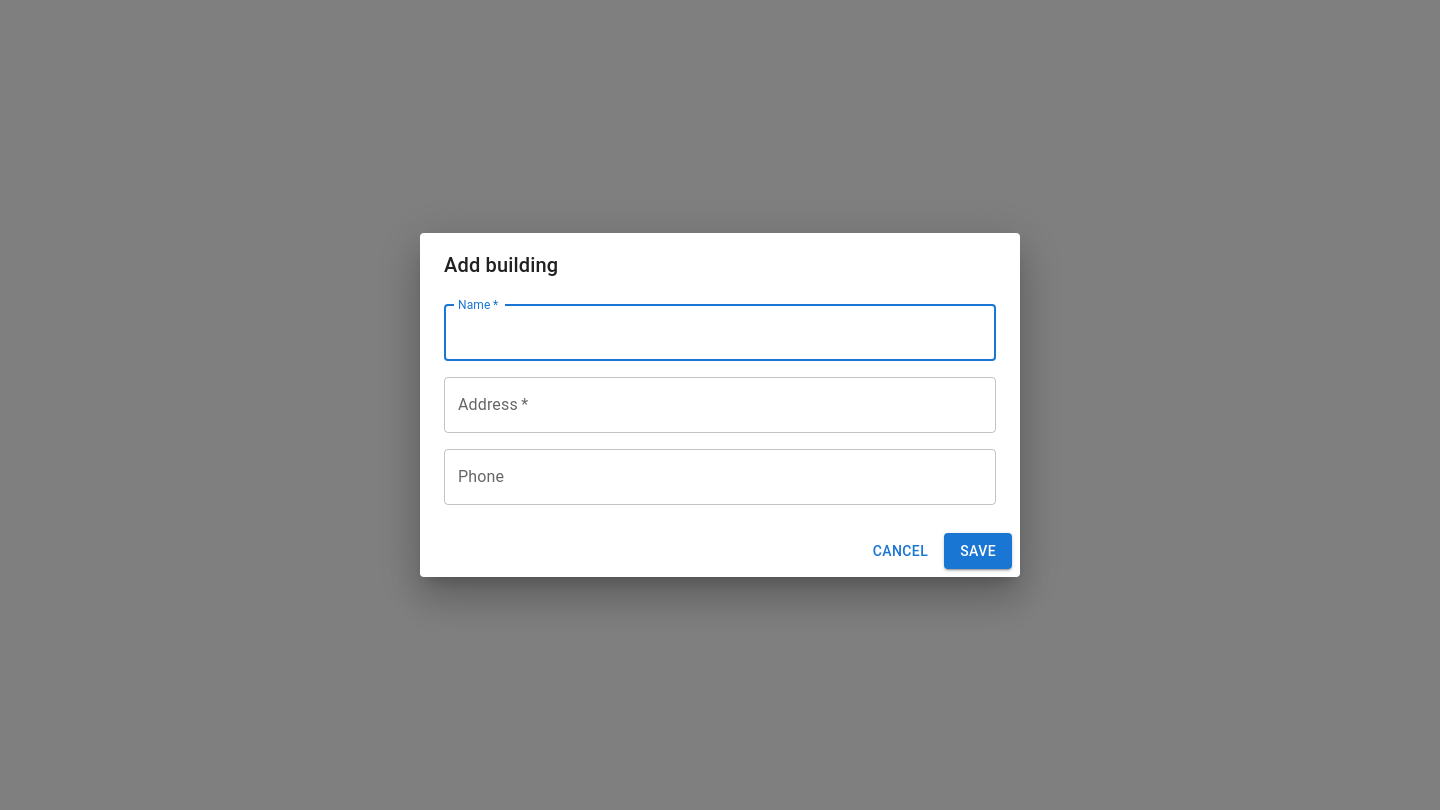
Test: FormDialog › shows other errors at the top of the form
Type "Annex" into the field labelled "Name *" at (720, 333), box 444,305 -> 996,361
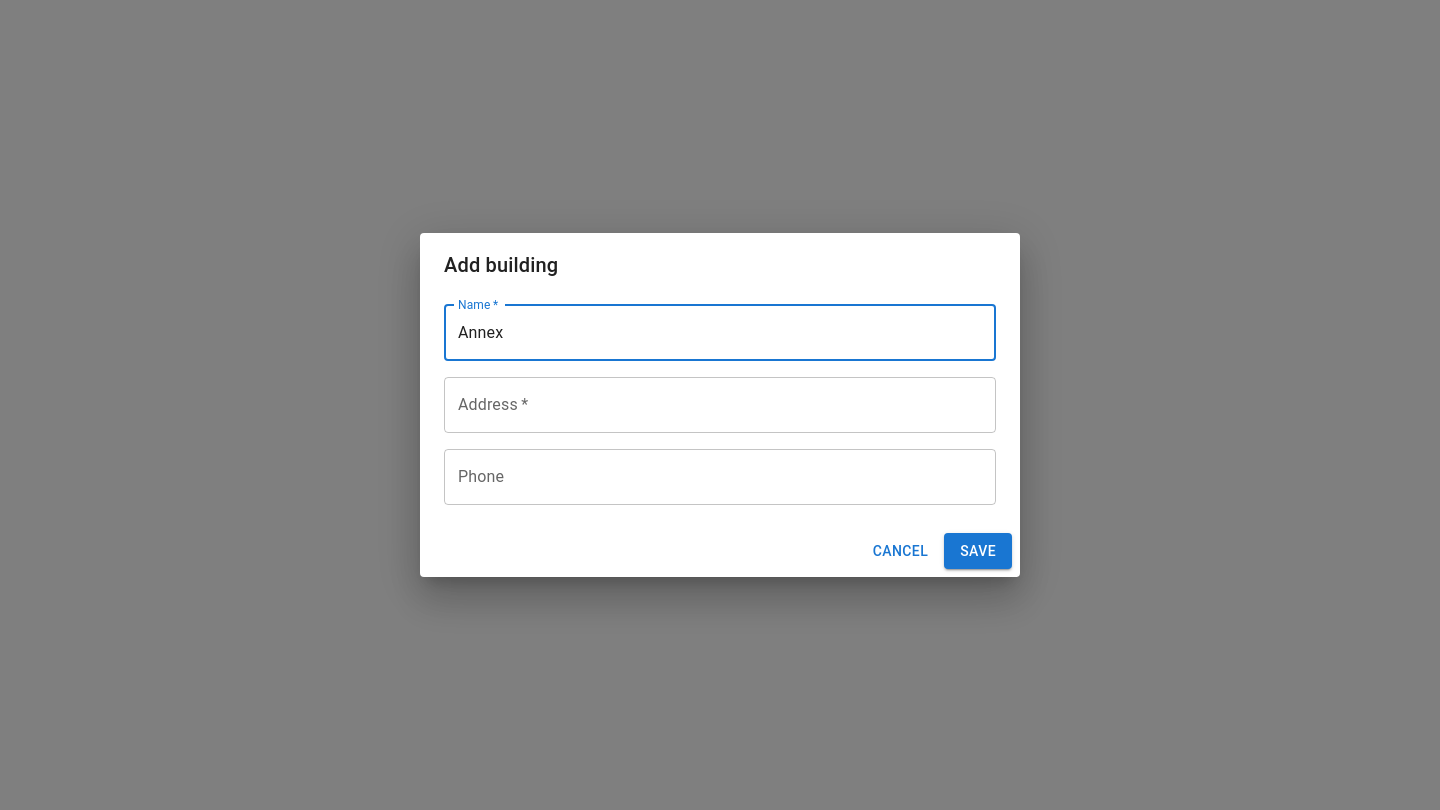
Type "x" into the field labelled "Address *" at (720, 405), box 444,377 -> 996,433
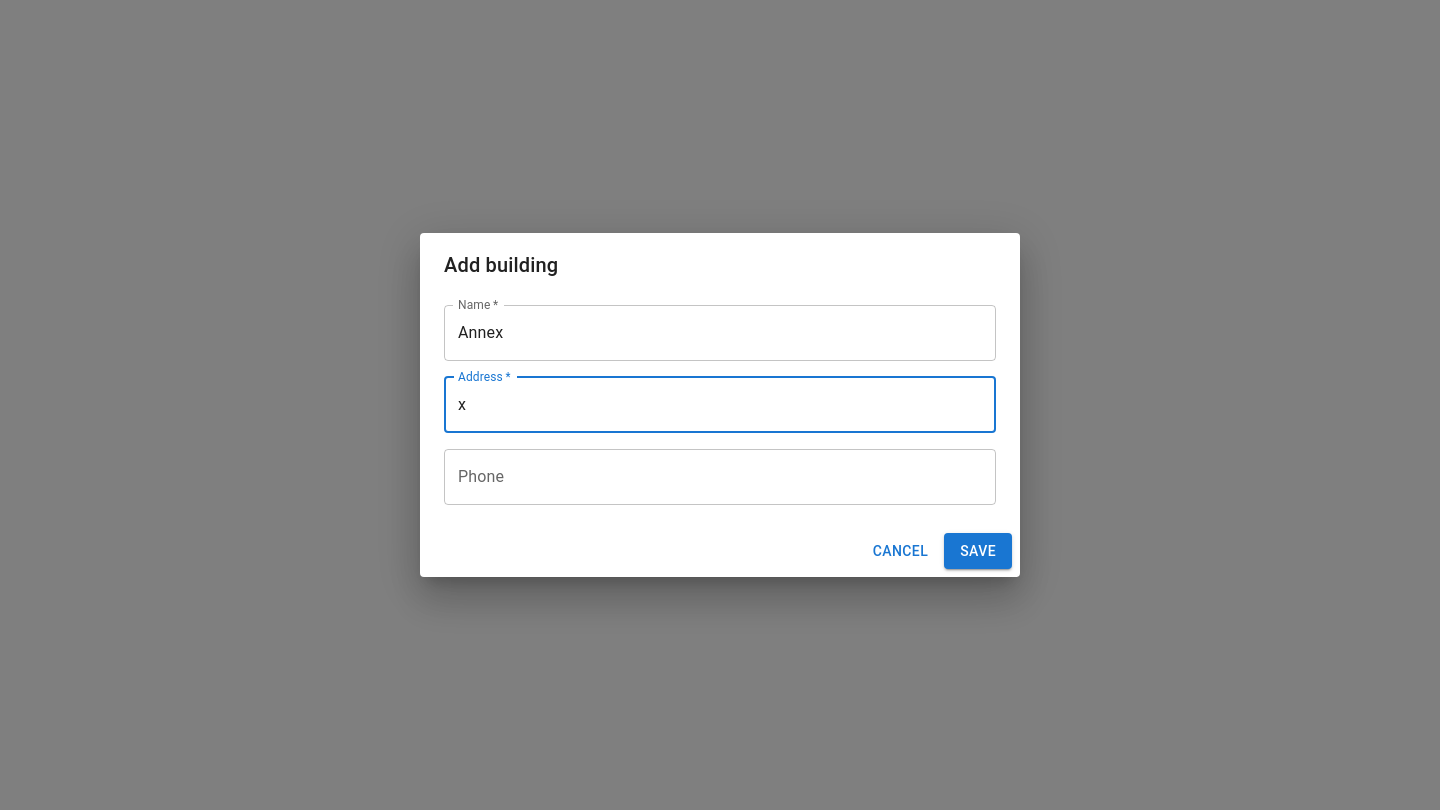
Click the button "Save" at (978, 551), box 944,533 -> 1012,569
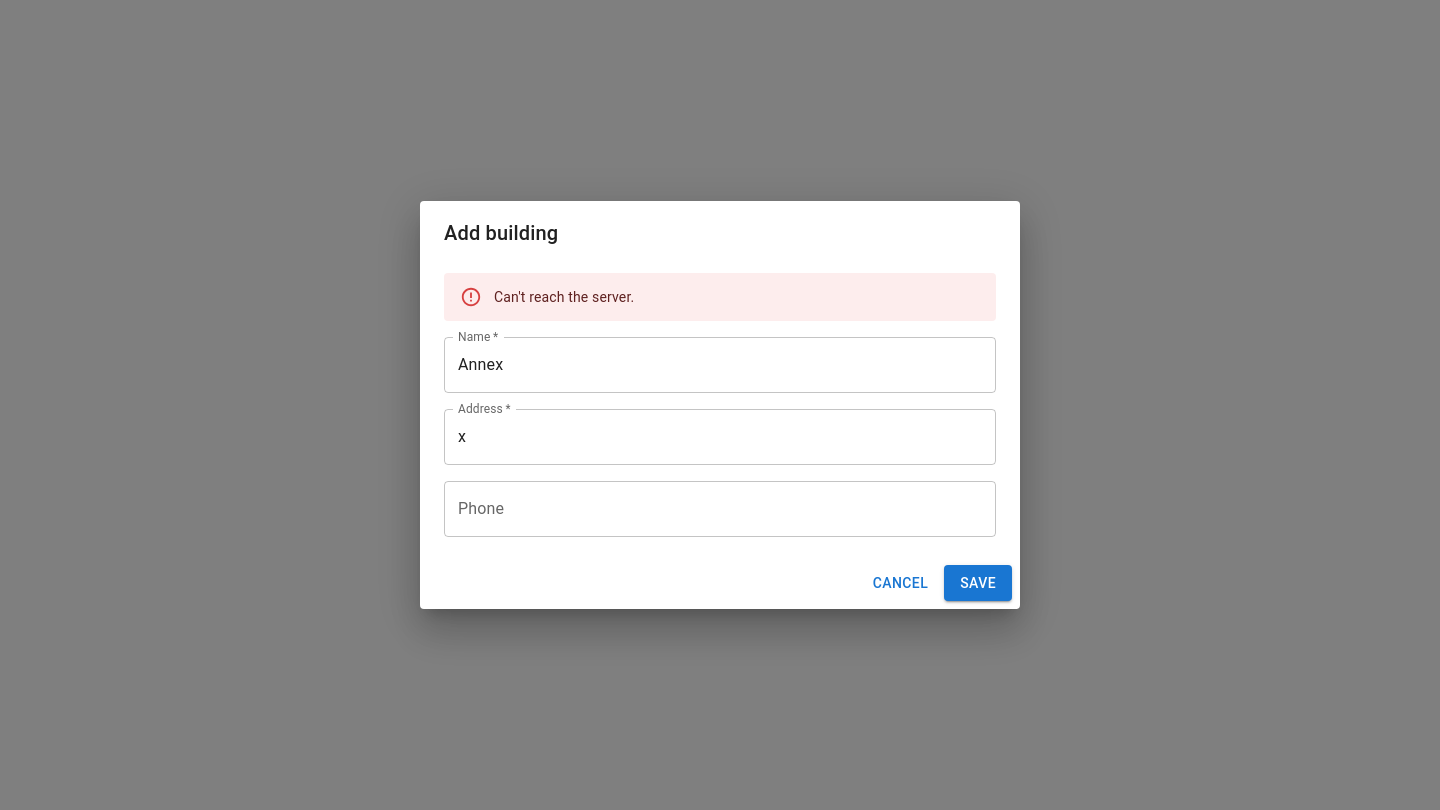
Expected: the message reads "Can't reach the server.", 494,289 -> 634,305
